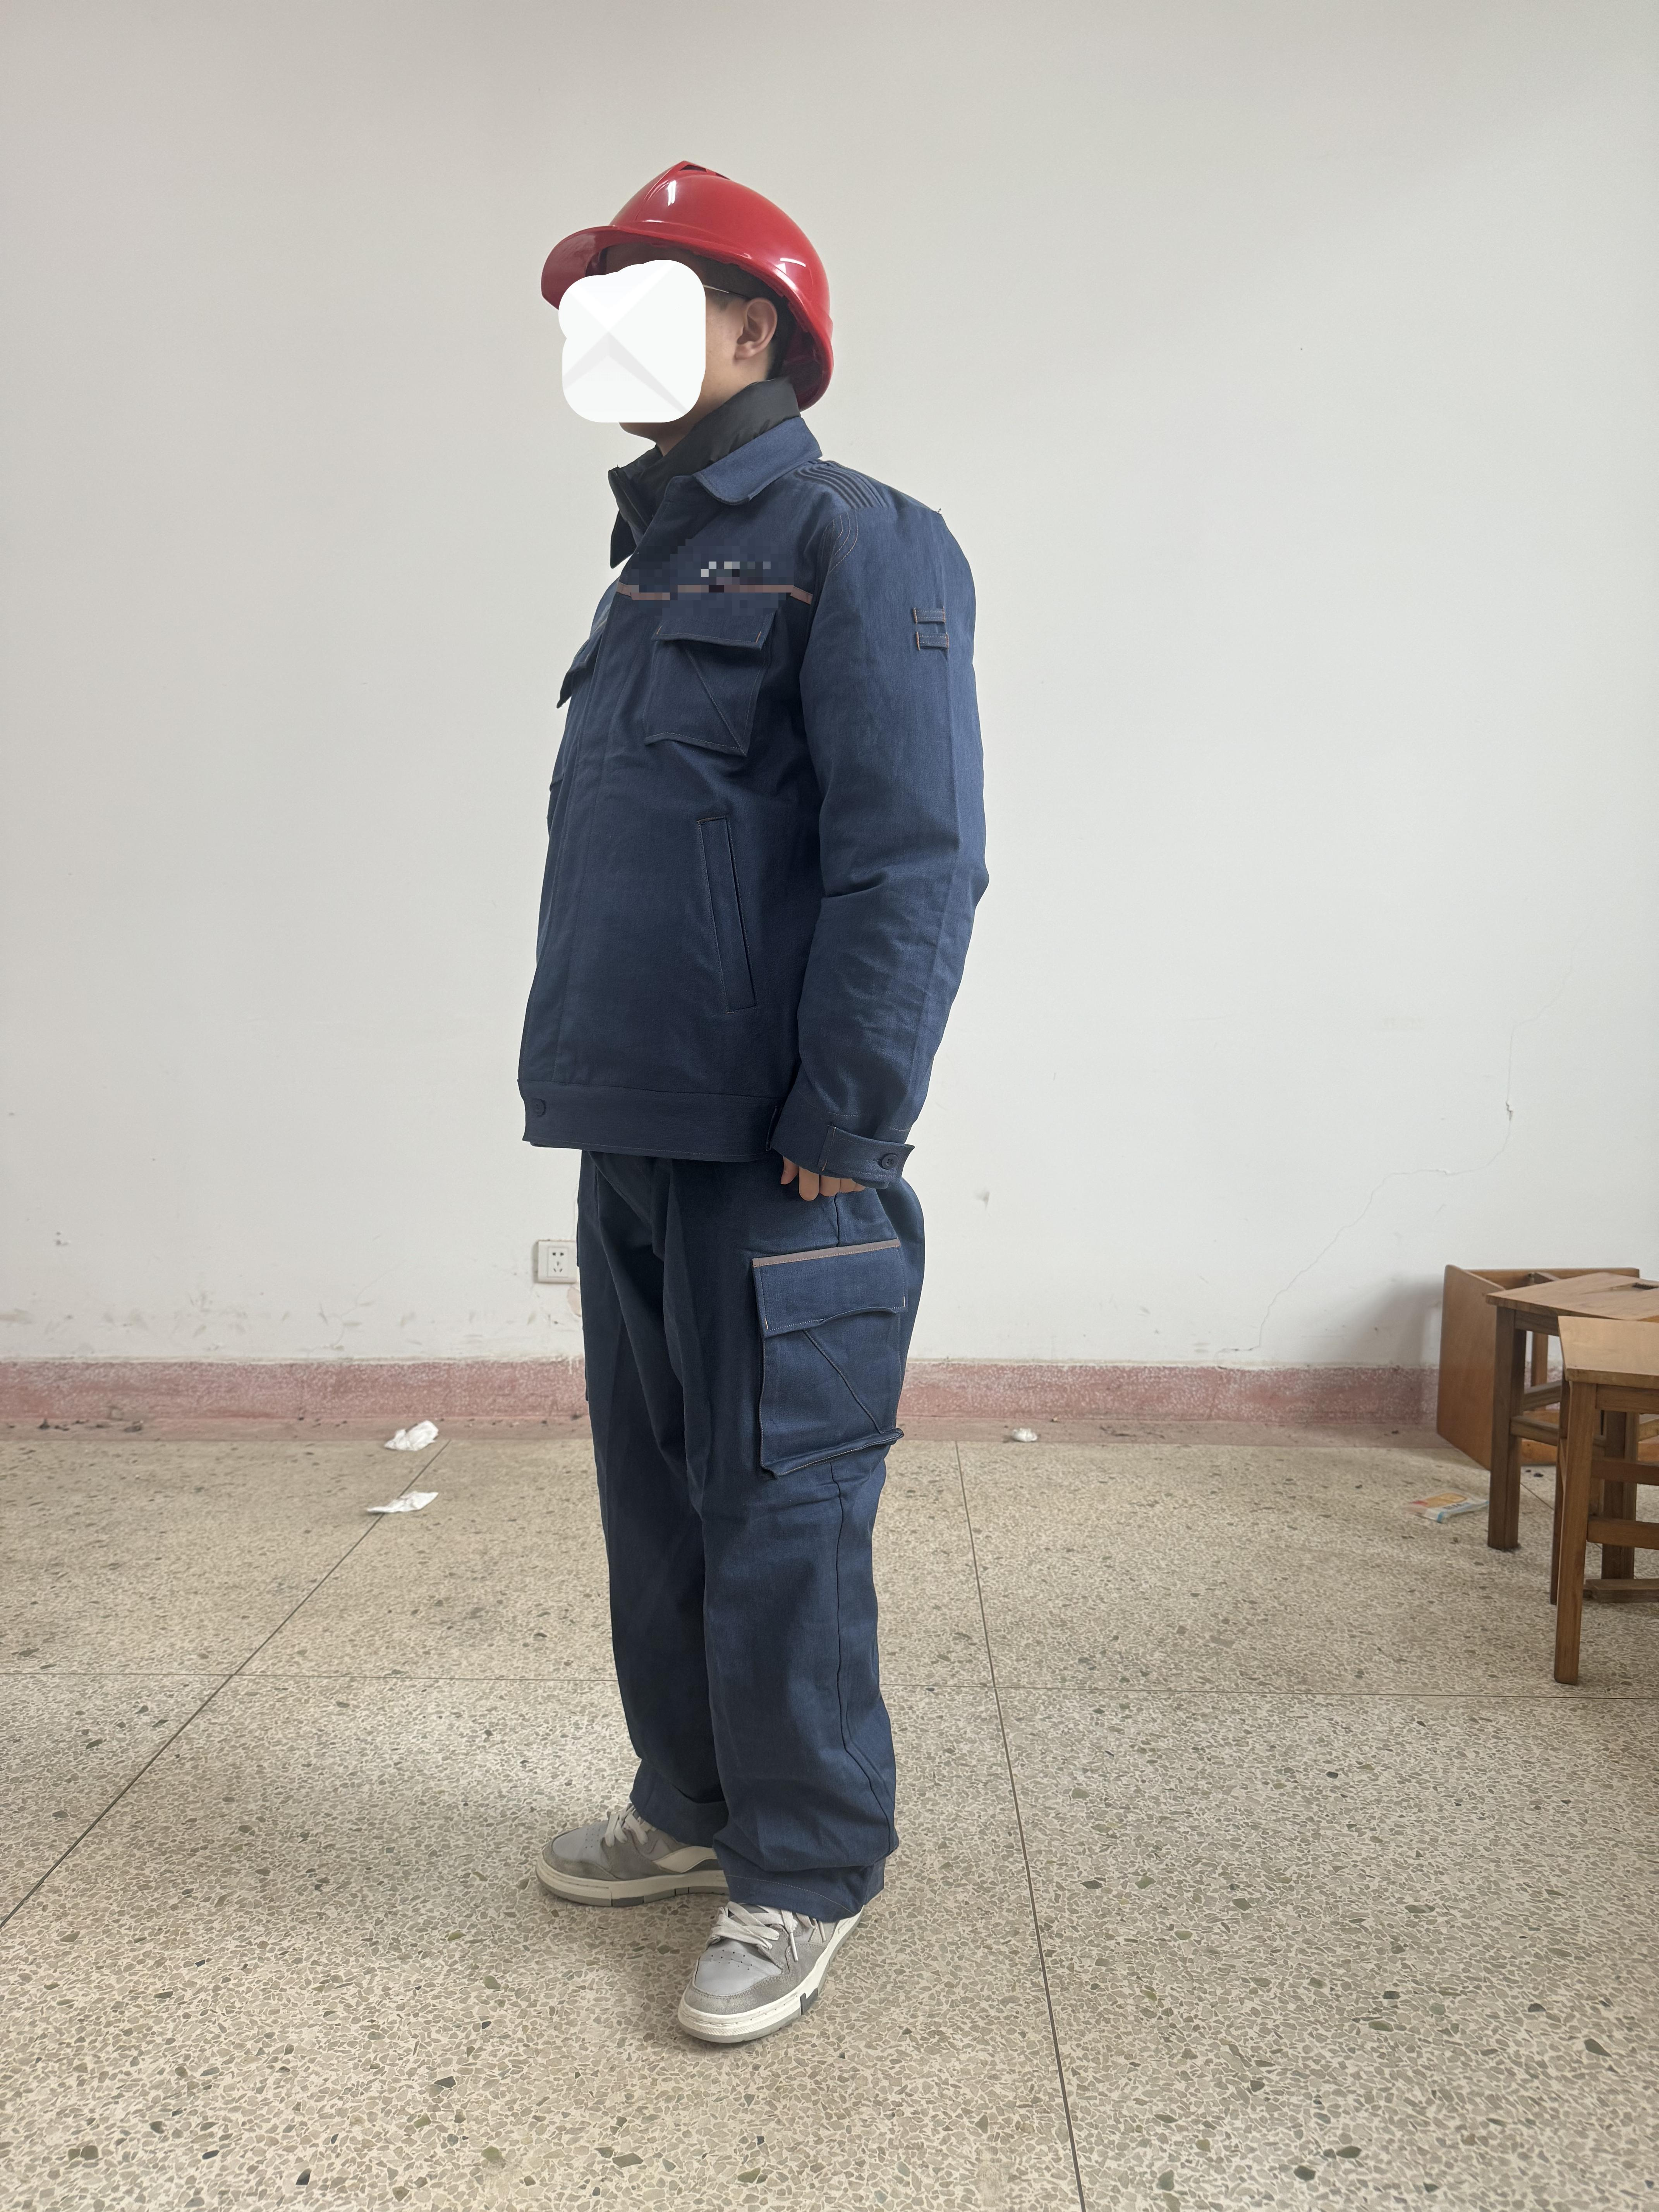noear: (690, 279, 795, 401)
